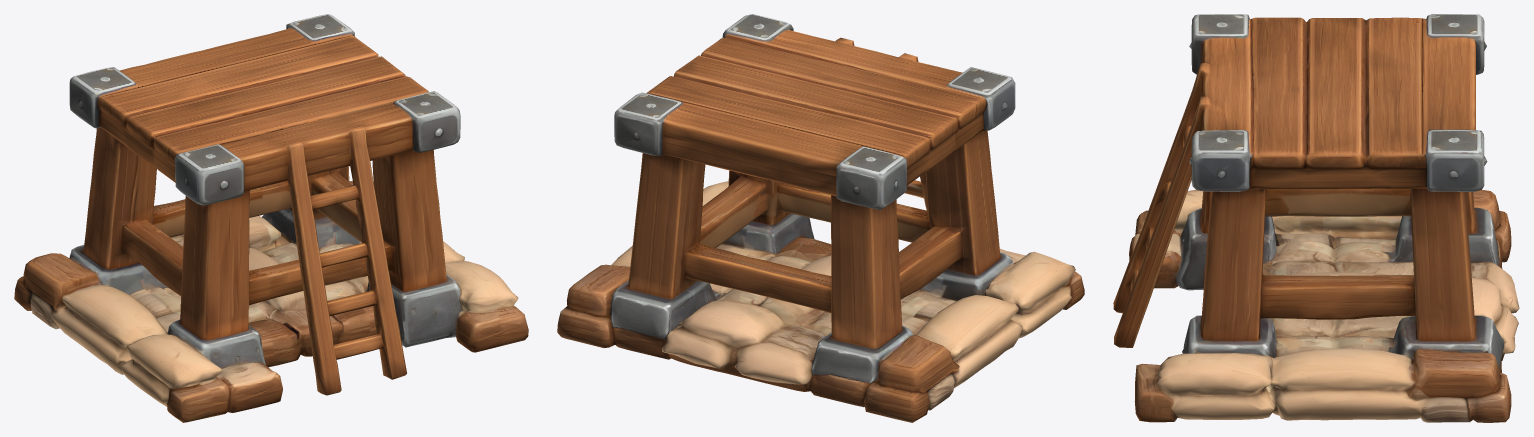
File: ArrowBase.fbx
The picture shows the model from 3 angles, left to right: view 1: azimuth 30°, elevation 25°; view 2: azimuth 150°, elevation 25°; view 3: azimuth 270°, elevation 25°; orthographic projection. The views are drawn at different scales.
Visible parts, largest first — view 1: Mesh_0; view 2: Mesh_0; view 3: Mesh_0.
Boxes of the visible parts, x1=… form: Mesh_0: x1=14, y1=14, x2=528, y2=422; Mesh_0: x1=557, y1=14, x2=1084, y2=422; Mesh_0: x1=1113, y1=14, x2=1519, y2=422.
Bounding box in the file's own units: 191 × 116 × 171.
Materials: 1 (1 with a texture image).
